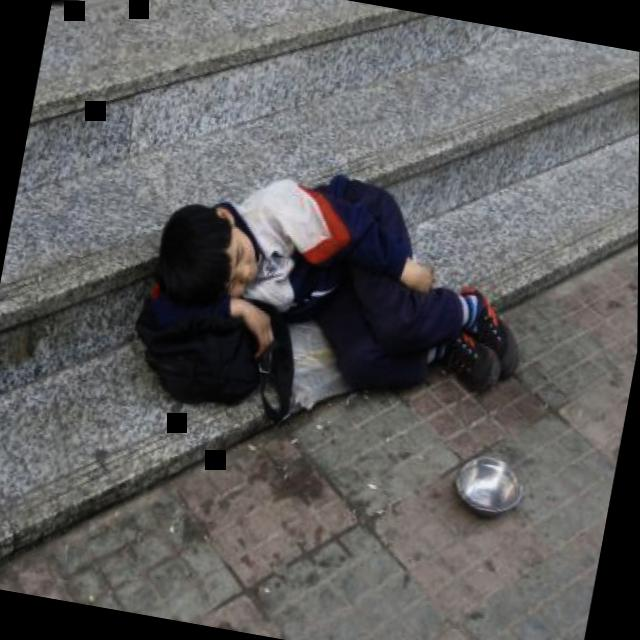Fall-Detected: (109, 106, 557, 468)
